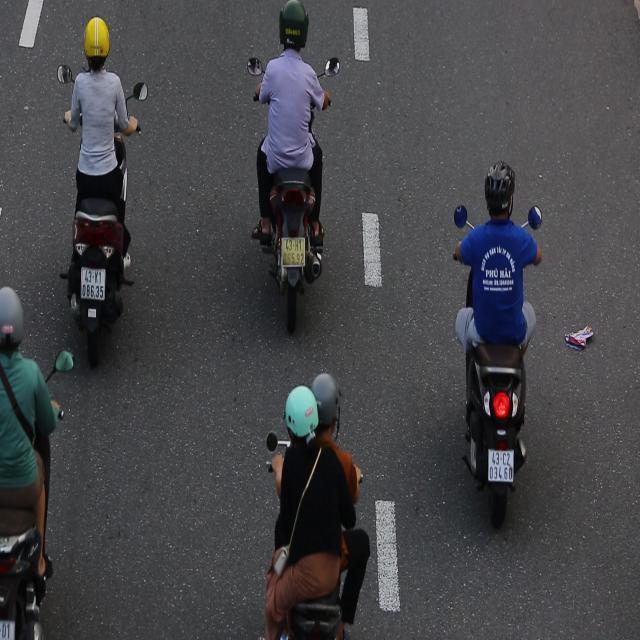motorbike: (446, 142, 548, 532), (46, 2, 144, 370), (243, 0, 346, 339)
